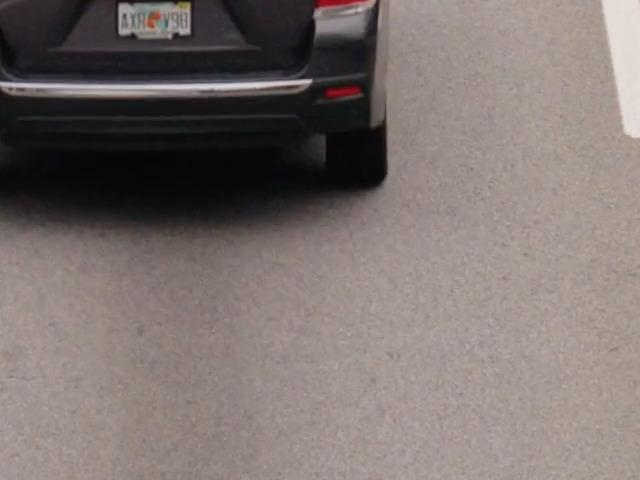car: (0, 0, 433, 190)
